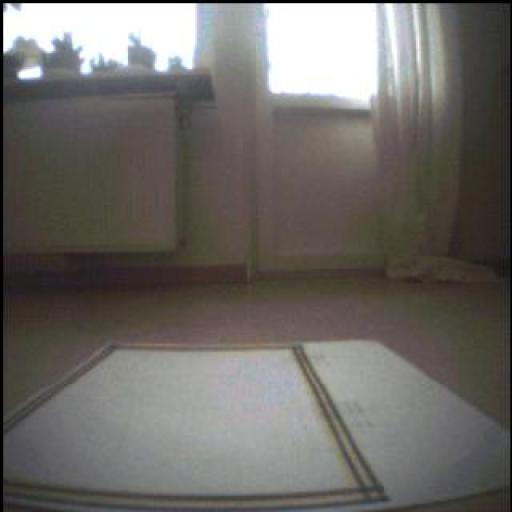Pad: (4, 344, 507, 512)
